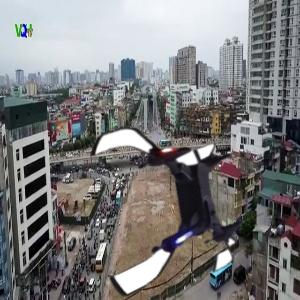drone: (72, 110, 256, 294)
